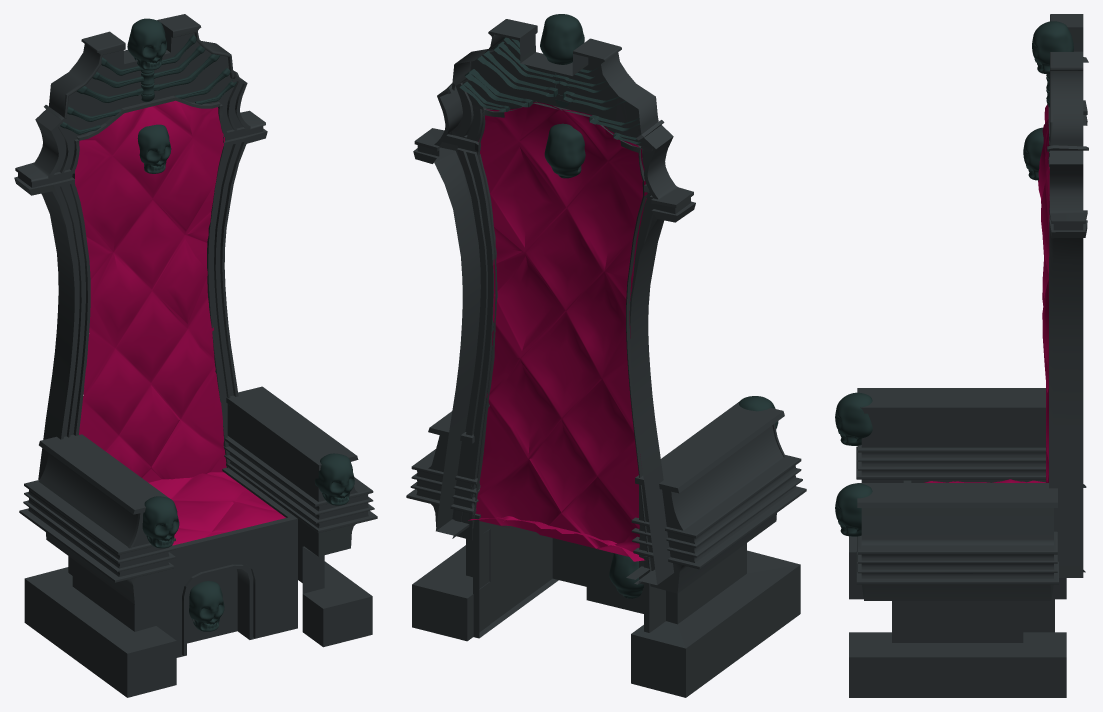
The model's file is SM_Throne.fbx.
The picture shows the model from 3 angles, left to right: view 1: azimuth 30°, elevation 25°; view 2: azimuth 150°, elevation 25°; view 3: azimuth 270°, elevation 25°; orthographic projection. The views are drawn at different scales.
Visible parts, largest first — view 1: pSphere23; view 2: pSphere23; view 3: pSphere23.
Part boxes in pixels (x1,y1,x2,y2): pSphere23: (14,14,377,697); pSphere23: (406,14,806,697); pSphere23: (835,14,1088,697).
Bounding box in the file's own units: 127 × 267 × 100.
